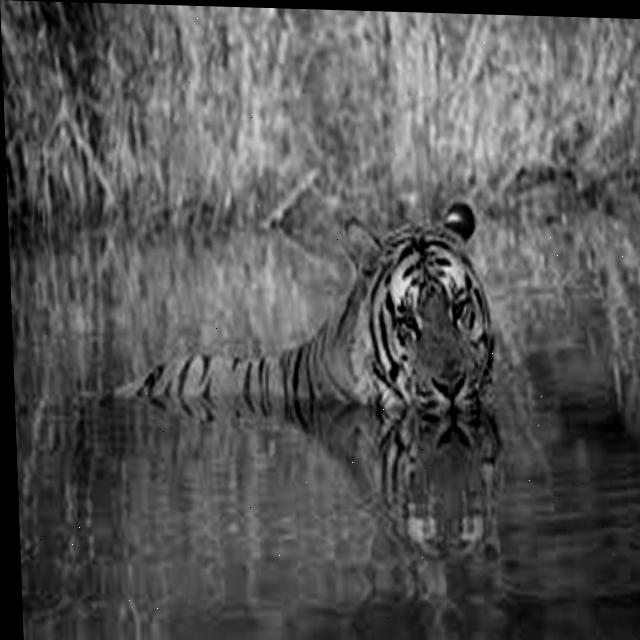Tiger: (103, 189, 506, 467)
